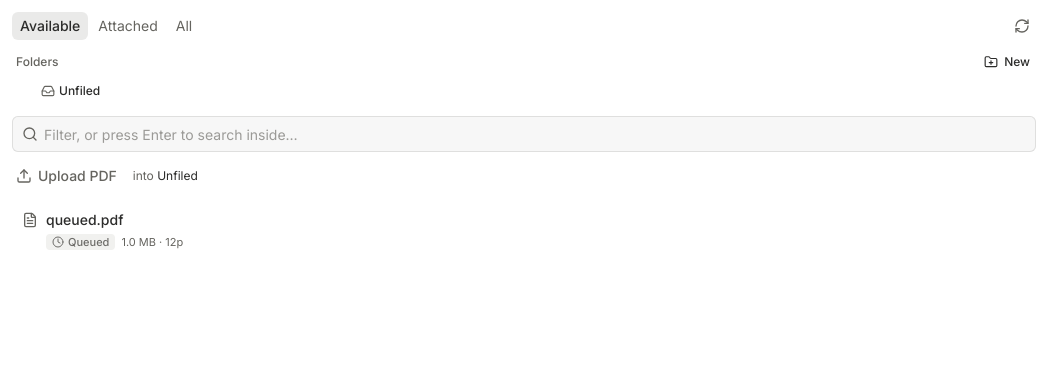
it: LibraryPanel › names the files a search could not read
This screenshot has width=1048, height=373.
In the search field labelled "Filter, or press Enter to search inside…": [524, 134] box [12,116,1036,152], type "transformer"
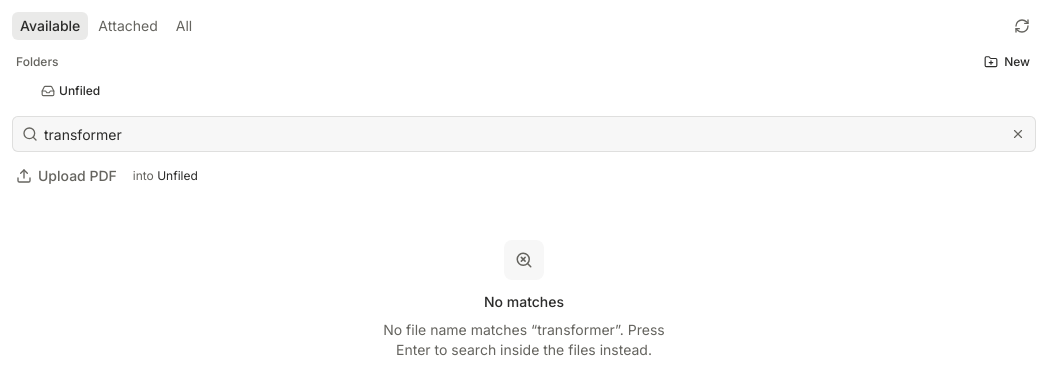
Submit the form named "Search", box [12,116,1036,152]
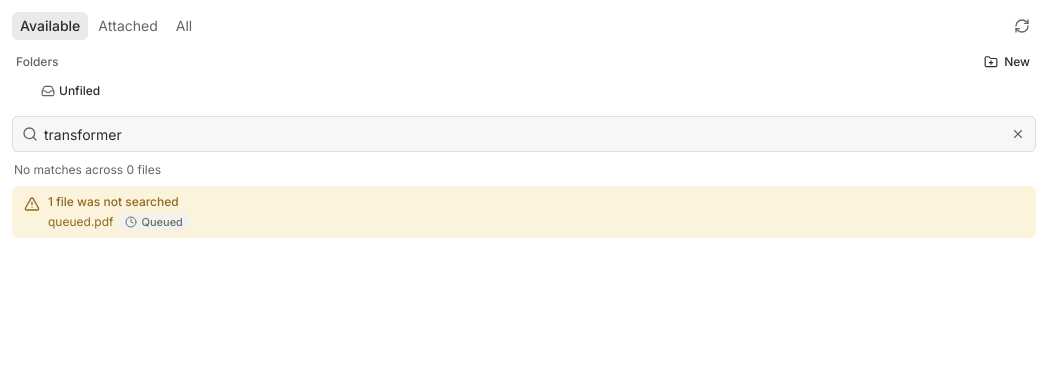
Result: the button "queued.pdf" is shown at [48,214,114,230]
Result: the text "Queued" is shown at [120,214,189,230]
